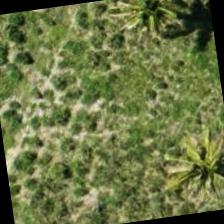Kelapa_Sawit: (153, 101, 223, 201), (79, 0, 178, 69)
